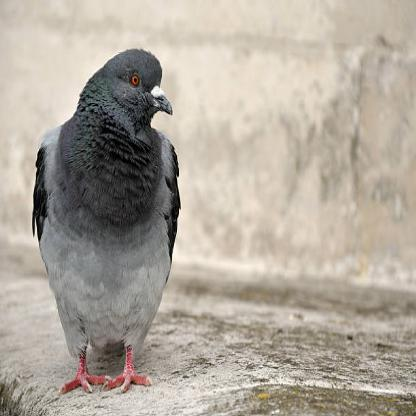Rock Pigeon: (33, 47, 182, 388)
